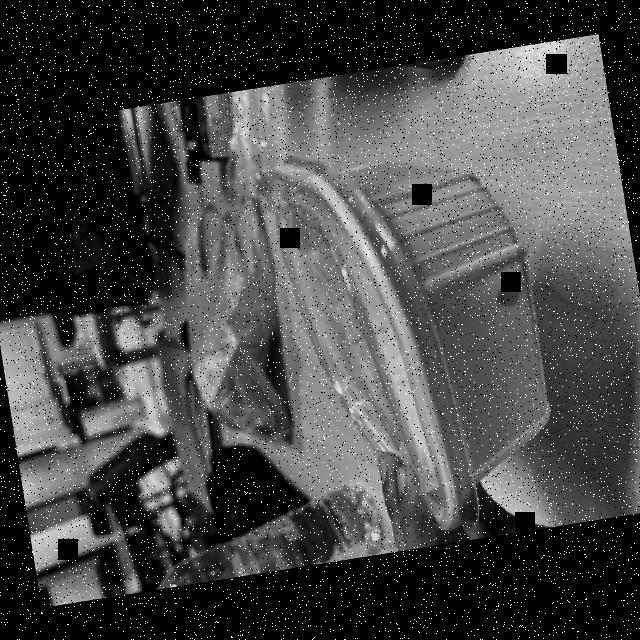plastic_box: (238, 105, 592, 562)
